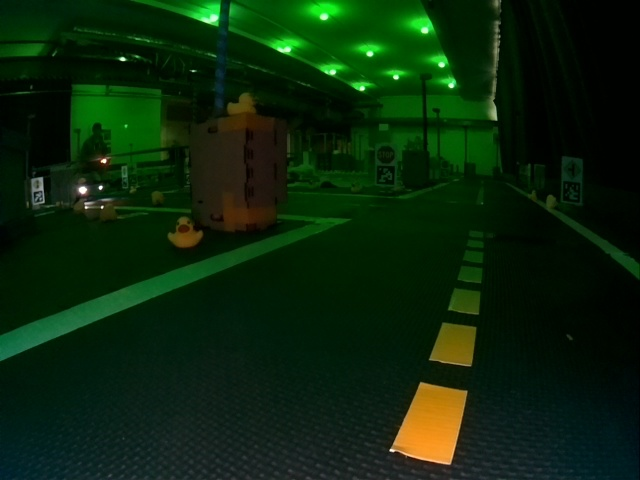Duckie: (168, 216, 203, 248), (227, 94, 255, 114), (100, 203, 115, 222), (151, 190, 164, 206), (546, 195, 557, 209), (528, 190, 536, 198)
Intersection sign: (563, 159, 581, 180)
QR code: (561, 185, 581, 204), (376, 167, 395, 186), (32, 195, 44, 205)
Signal sign: (32, 177, 43, 190)
Stop sign: (377, 144, 396, 162)
Traffic light: (100, 157, 110, 165)
